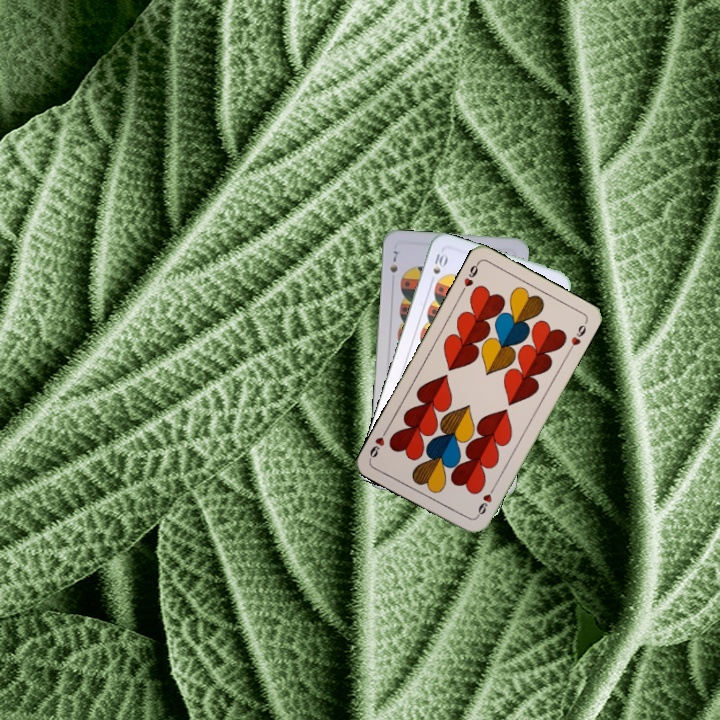H9: (472, 482, 498, 520), (457, 258, 482, 296)
S10: (428, 247, 450, 277)
S7: (386, 246, 400, 275)
